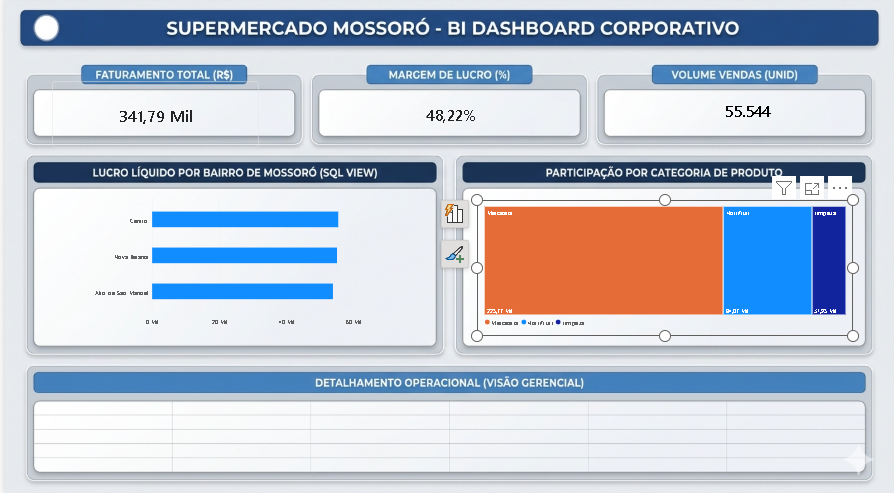

This screenshot's page, from the dashboard's own definition file:
{"tool":"powerbi","page":{"name":"Página 1","canvas":[1920,1080],"ordinal":0},"visuals":[{"type":"cardVisual","fields":{"Data":["Sum(vw_dashboard_vendas.faturamento_total)"]},"box":[101.5,183.6,447.1,144.7],"z":0},{"type":"cardVisual","fields":{"Data":["vw_dashboard_vendas.Margem Lucro %"]},"box":[693.5,158,540.1,195.8],"z":1},{"type":"cardVisual","fields":{"Data":["vw_dashboard_vendas.Total Unidades Vendidas"]},"box":[1292.6,184,627.4,127.4],"z":2},{"type":"clusteredBarChart","fields":{"Category":["vw_dashboard_vendas.bairro"],"Y":["Sum(vw_dashboard_vendas.lucro_liquido)"]},"box":[160.8,412.5,627.9,321.5],"z":4},{"type":"treemap","fields":{"Group":["vw_dashboard_vendas.categoria"],"Values":["Sum(vw_dashboard_vendas.faturamento_total)"]},"box":[1019.1,439.8,812.9,294.2],"z":5}]}

Visuals, with their boxes in screenshot pixels (x1, y1, x2, y2), scaled from the page's 1920x1080 canvas onto the 894x493 screenshot:
cardVisual - Sum(vw_dashboard_vendas.faturamento_total): BBox(47, 84, 255, 150)
cardVisual - vw_dashboard_vendas.Margem Lucro %: BBox(323, 72, 574, 162)
cardVisual - vw_dashboard_vendas.Total Unidades Vendidas: BBox(602, 84, 893, 142)
clusteredBarChart - vw_dashboard_vendas.bairro x Sum(vw_dashboard_vendas.lucro_liquido): BBox(75, 188, 367, 335)
treemap - vw_dashboard_vendas.categoria x Sum(vw_dashboard_vendas.faturamento_total): BBox(475, 201, 853, 335)
